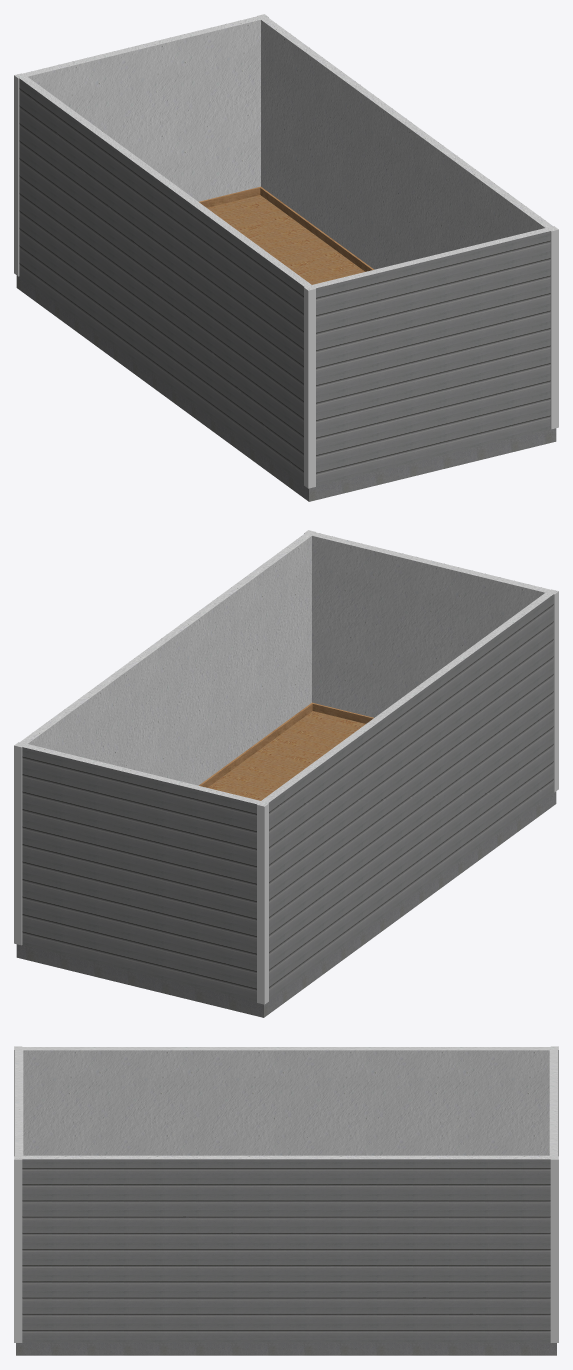
File: 1storey_12x24_GFBlock.glb
The picture shows the model from 3 angles, top to bottom: view 1: azimuth 30°, elevation 25°; view 2: azimuth 150°, elevation 25°; view 3: azimuth 270°, elevation 25°; orthographic projection. The views are drawn at different scales.
Parts seen in each view (by area): view 1: GF- Exterior Wall, GF- interior wall, Concrete-Foundation, GF- Floor Finish, Vertical_Trim_2, GF- Base Board; view 2: GF- Exterior Wall, GF- interior wall, Concrete-Foundation, GF- Floor Finish, Vertical_Trim_2, GF- Base Board; view 3: GF- Exterior Wall, GF- interior wall, Concrete-Foundation, Vertical_Trim_2.
Boxes of the visible parts, bbox=[...] form: GF- Exterior Wall: bbox=[19, 78, 550, 486]; GF- interior wall: bbox=[16, 14, 556, 289]; Concrete-Foundation: bbox=[16, 275, 556, 501]; GF- Floor Finish: bbox=[207, 195, 364, 284]; Vertical_Trim_2: bbox=[14, 14, 558, 488]; GF- Base Board: bbox=[199, 186, 373, 271]; GF- Exterior Wall: bbox=[22, 594, 553, 1002]; GF- interior wall: bbox=[16, 530, 556, 805]; Concrete-Foundation: bbox=[16, 791, 556, 1017]; GF- Floor Finish: bbox=[208, 711, 365, 800]; Vertical_Trim_2: bbox=[14, 530, 558, 1004]; GF- Base Board: bbox=[199, 702, 373, 787]; GF- Exterior Wall: bbox=[22, 1159, 550, 1342]; GF- interior wall: bbox=[15, 1047, 557, 1159]; Concrete-Foundation: bbox=[16, 1342, 556, 1355]; Vertical_Trim_2: bbox=[14, 1046, 558, 1342].
Size of the model in its own units: 3.71 by 3 by 7.54.
Materials: 8 (7 with a texture image).
